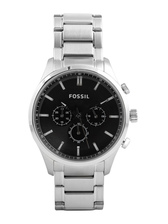watch: (23, 12, 139, 211)
